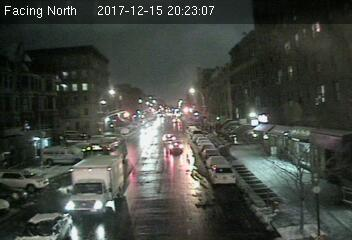bus: (81, 137, 127, 159)
car: (11, 211, 75, 240), (207, 164, 236, 183), (161, 133, 177, 144), (168, 141, 183, 152)
truck: (68, 154, 127, 218)
